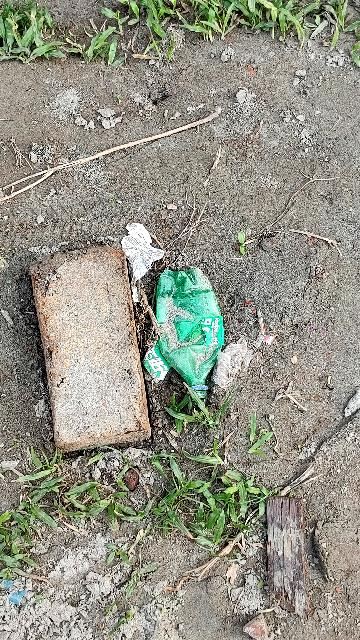bottle: (154, 270, 225, 411)
